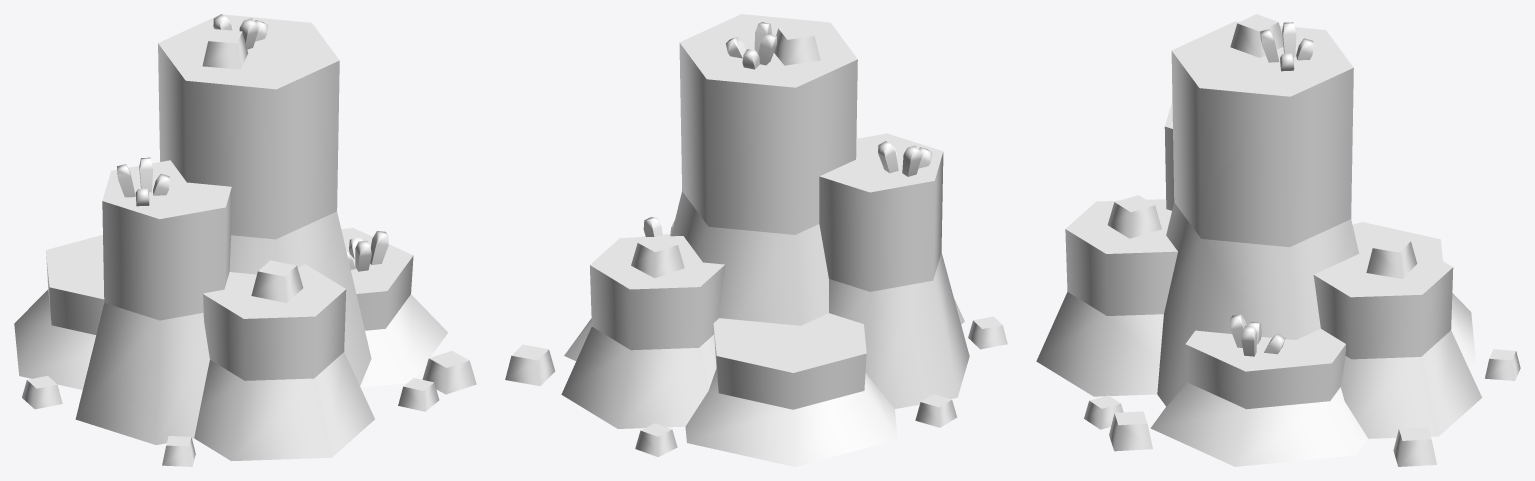
Rendered from rocks-sand-b.glb.
The picture shows the model from 3 angles, left to right: view 1: azimuth 30°, elevation 25°; view 2: azimuth 150°, elevation 25°; view 3: azimuth 270°, elevation 25°; orthographic projection. The views are drawn at different scales.
Visible parts, largest first — view 1: rocks-sand-b; view 2: rocks-sand-b; view 3: rocks-sand-b.
Boxes of the visible parts, left/top/right/bottom form: rocks-sand-b: left=14, top=14, right=476, bottom=466; rocks-sand-b: left=505, top=14, right=1007, bottom=466; rocks-sand-b: left=1036, top=14, right=1520, bottom=466.
Size of the model in its own units: 4.38 by 3.71 by 4.71.
Materials: 1 (1 with a texture image).
